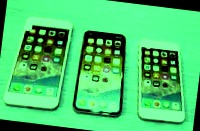iphone: (9, 25, 68, 117), (137, 34, 190, 115), (80, 32, 126, 115)
